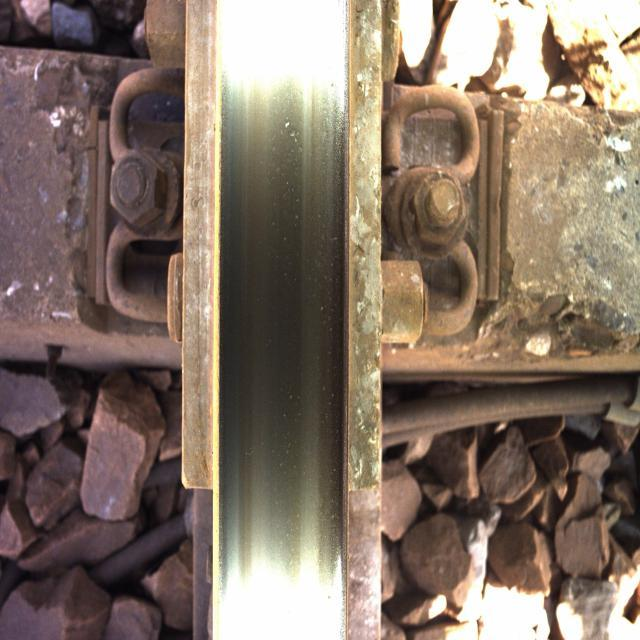break: (219, 42, 341, 584)
